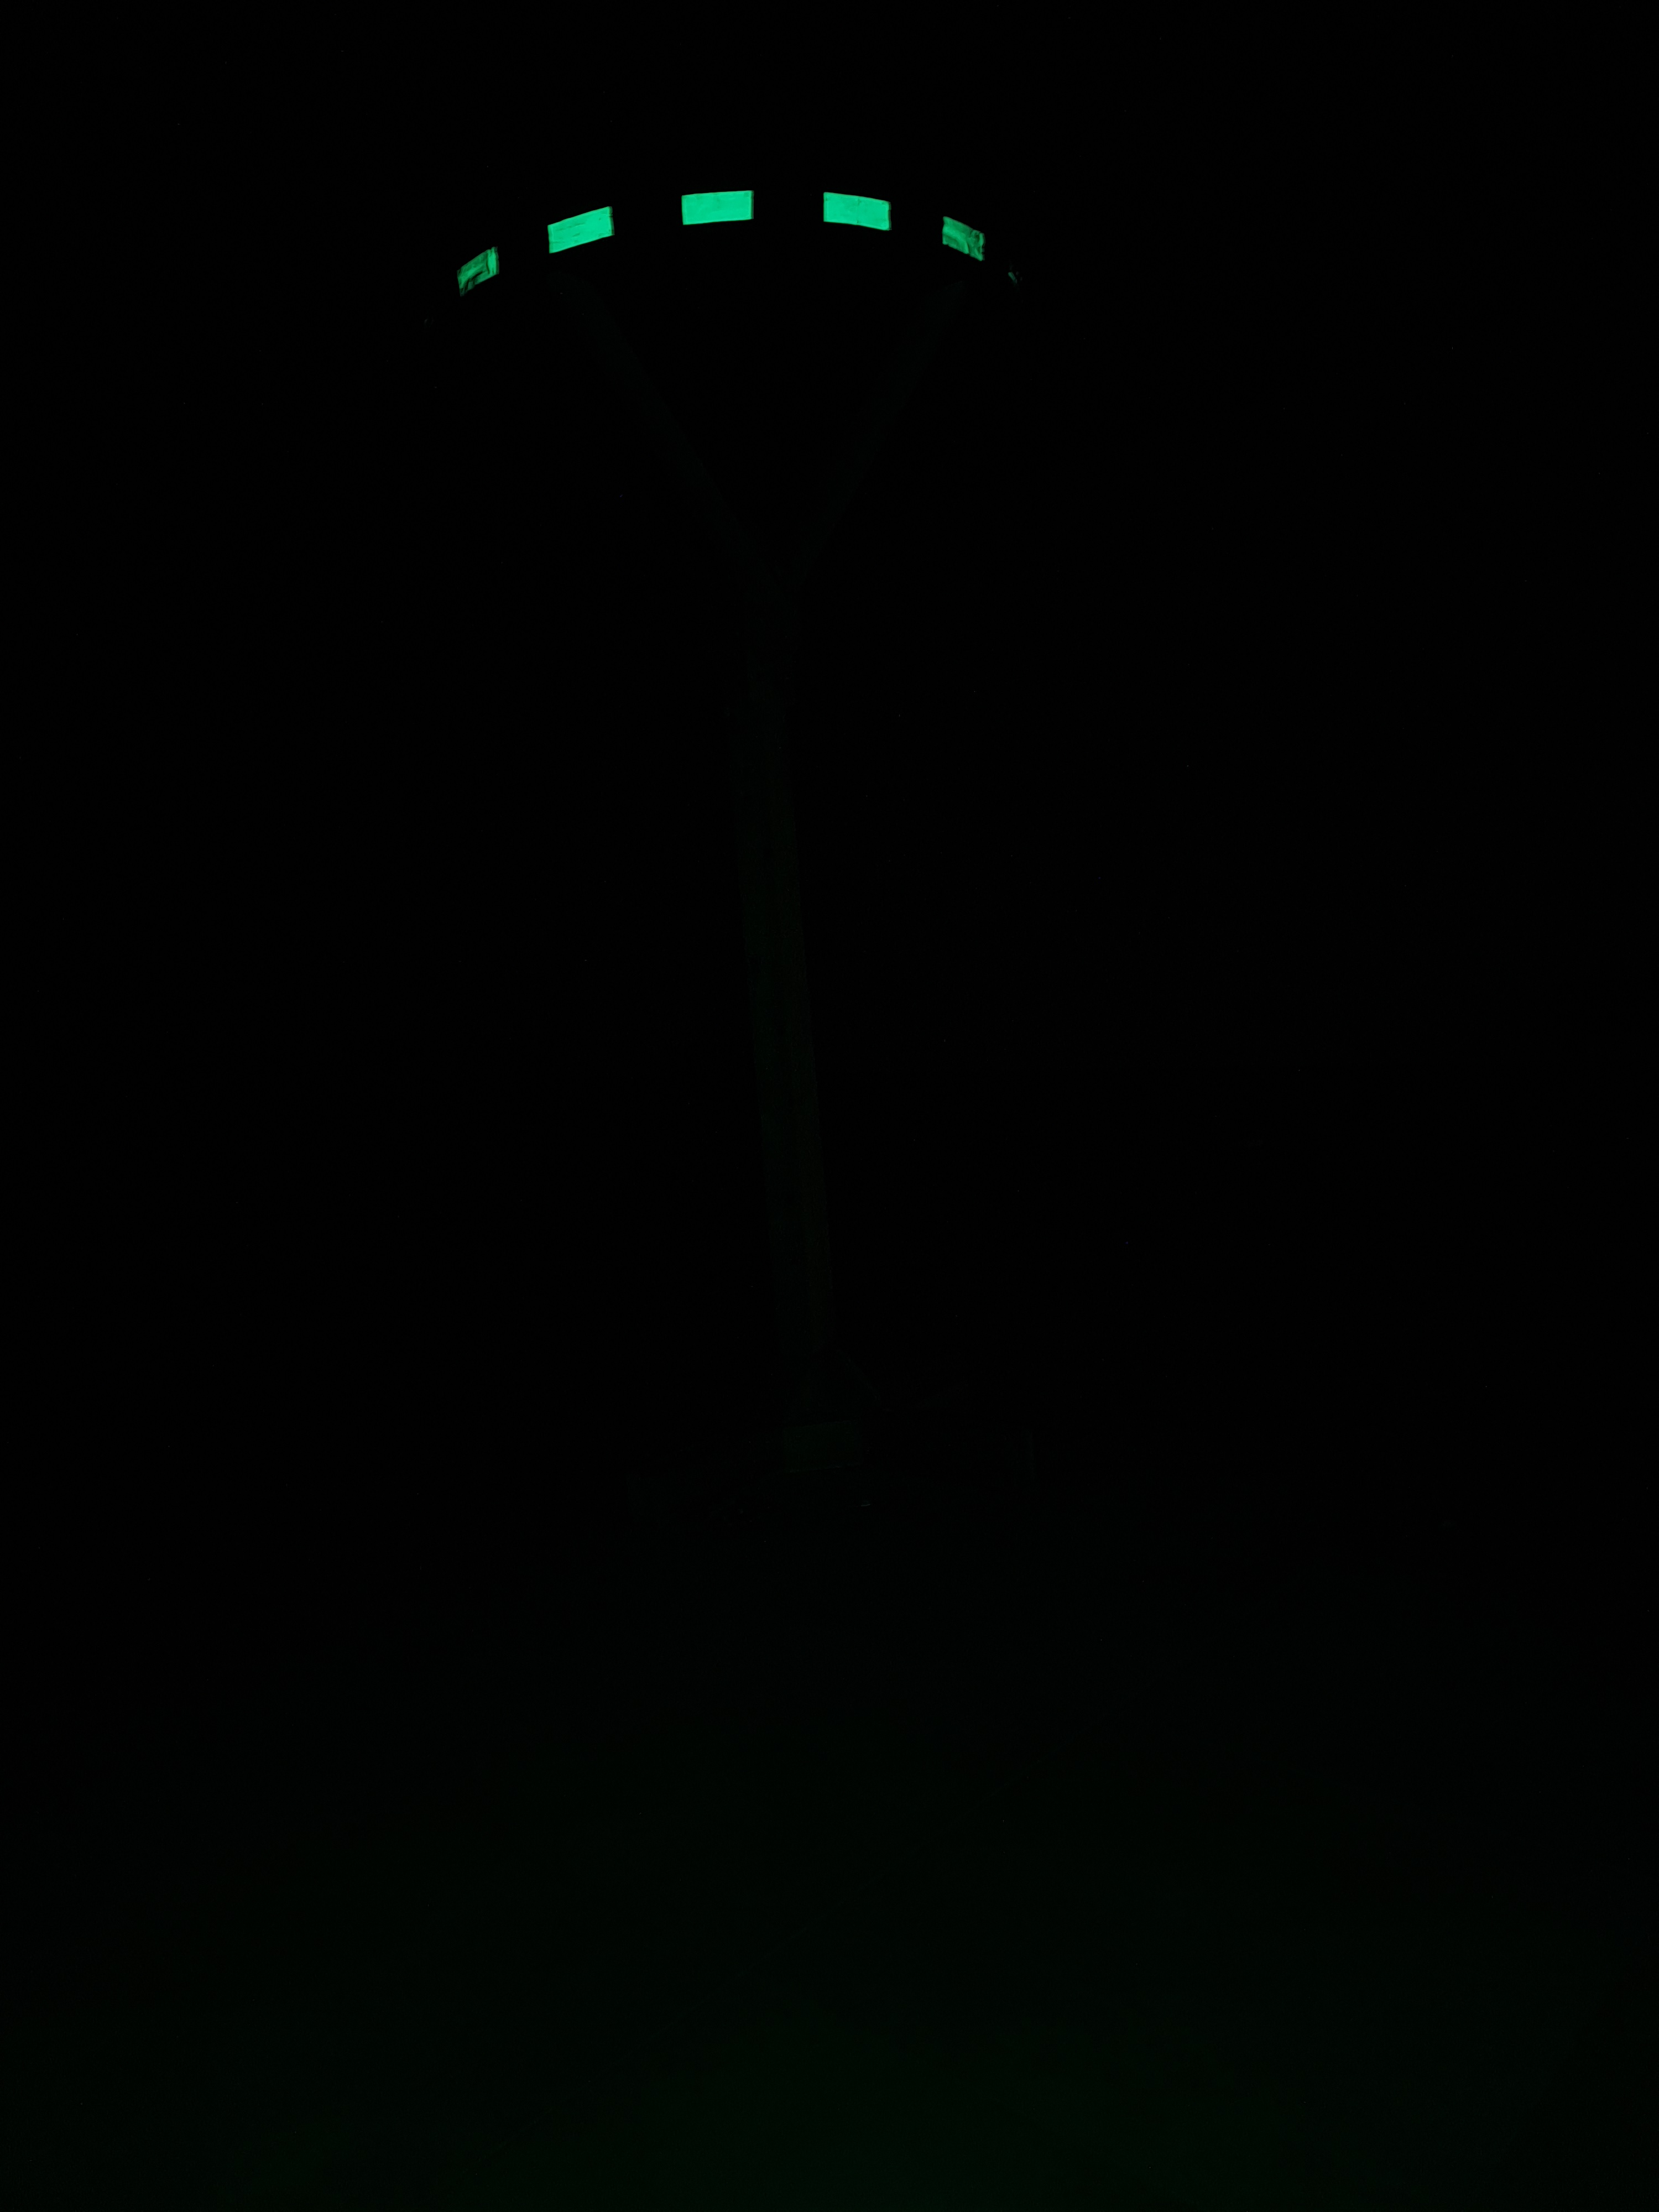hoop: (457, 188, 985, 293)
